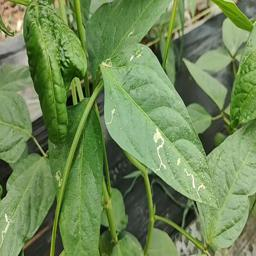liriomyza: (153, 127, 168, 174), (184, 167, 205, 198), (1, 210, 10, 247), (54, 168, 64, 188)
